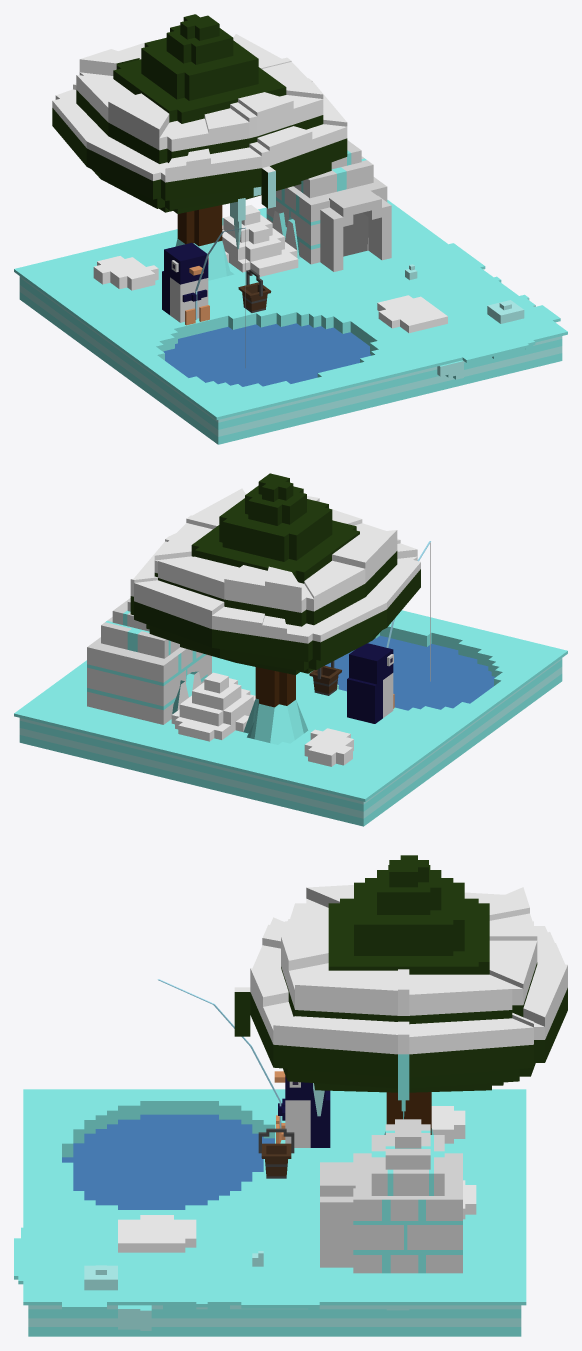
Rendered from fishing-penguin-joined.glb.
3 views of the same model, one above another, from view 1: azimuth 30°, elevation 25°; view 2: azimuth 150°, elevation 25°; view 3: azimuth 270°, elevation 25° (orthographic). The views are drawn at different scales.
Visible parts, largest first — view 1: Plane, Body, Bucket; view 2: Plane, Body, Bucket; view 3: Plane, Body, Bucket.
Part boxes in pixels (x1,y1,x2,y2): Plane: (14,14,567,444); Body: (162,227,245,367); Bucket: (238,269,271,312); Plane: (14,473,567,826); Body: (347,541,430,723); Bucket: (309,661,341,695); Plane: (14,855,567,1336); Body: (157,979,330,1147); Bucket: (258,1128,294,1178).
Bounding box in the file's own units: 37.01 × 28.47 × 39.82.
